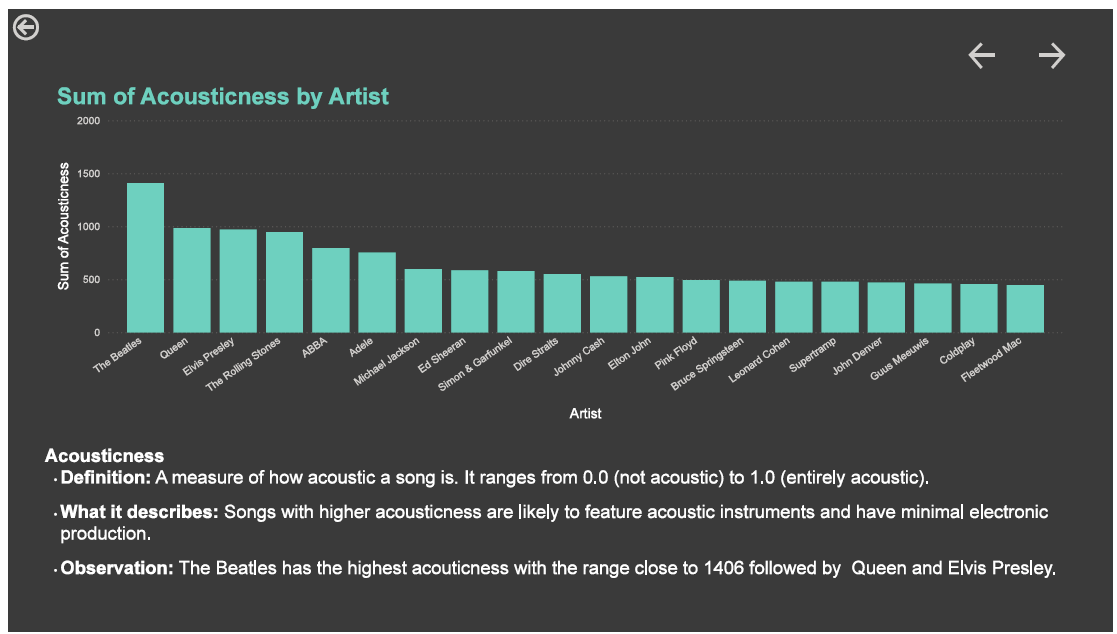

This screenshot's page, from the dashboard's own definition file:
{"tool":"powerbi","page":{"name":"Acousticness(Top 20)","canvas":[1280,720],"ordinal":2},"visuals":[{"type":"columnChart","fields":{"Y":["Spotify-2000-Prepared.Acousticness"],"Category":["Spotify-2000-Prepared.Artist"]},"box":[35.9,85,1205.7,396.9],"z":0},{"type":"actionButton","box":[1189.4,32.8,56.7,40],"z":1000},{"type":"actionButton","box":[1109.4,32.8,55,40],"z":2000},{"type":"actionButton","box":[0,0,100,40],"z":3000},{"type":"textbox","box":[37,500,1204,220],"z":4000}]}

Visuals, with their boxes in screenshot pixels (x1, y1, x2, y2), scaled from the page's 1280x720 canvas onto the 1117x634 screenshot:
columnChart - Spotify-2000-Prepared.Acousticness x Spotify-2000-Prepared.Artist: x1=31, y1=75, x2=1083, y2=424
actionButton: x1=1038, y1=29, x2=1087, y2=64
actionButton: x1=968, y1=29, x2=1016, y2=64
actionButton: x1=0, y1=0, x2=87, y2=35
textbox: x1=32, y1=440, x2=1083, y2=633
